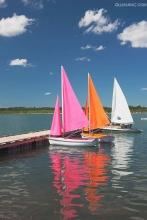fanchuan: (45, 69, 95, 150), (81, 73, 120, 142), (101, 81, 137, 131)
